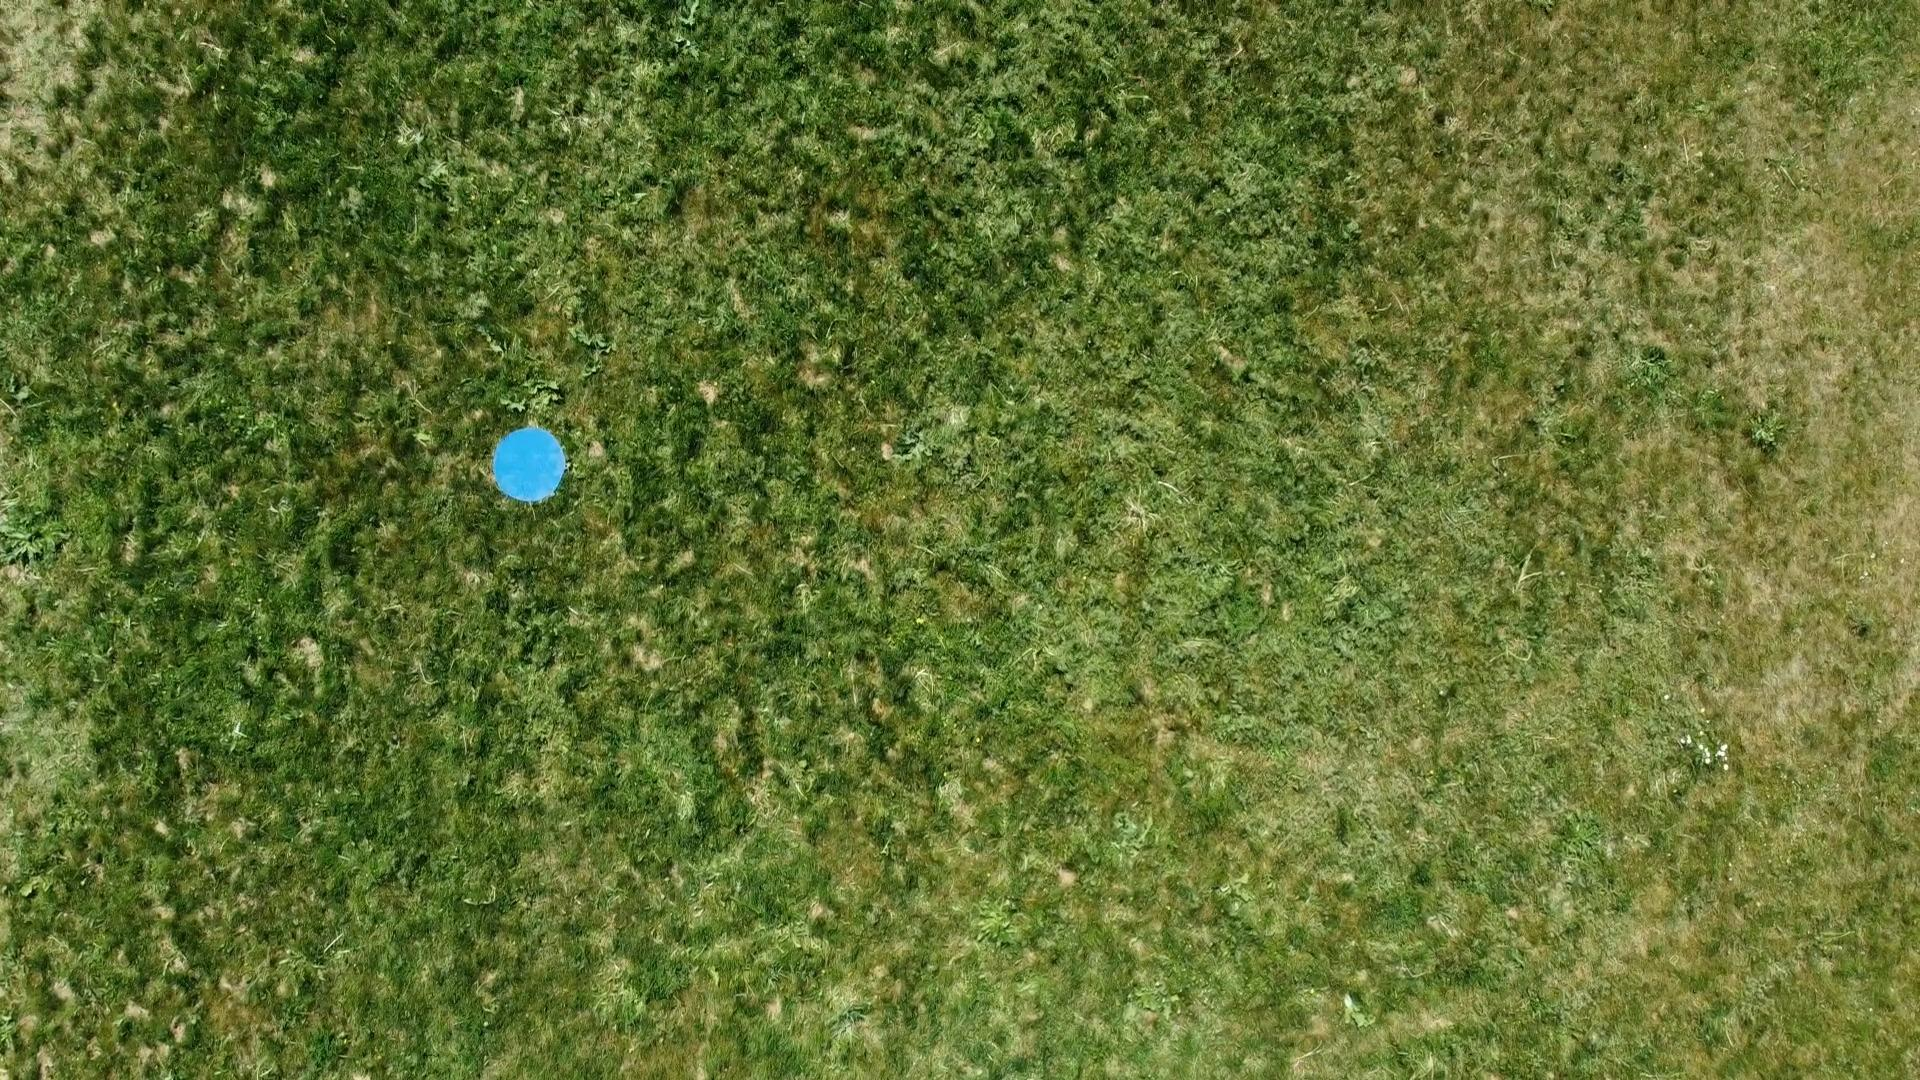Blue: (489, 425, 570, 504)
